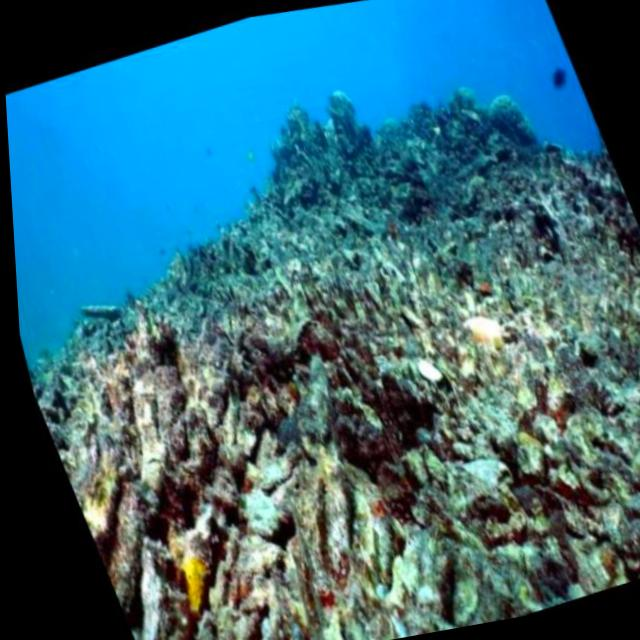Dead Coral: (8, 96, 640, 640)
